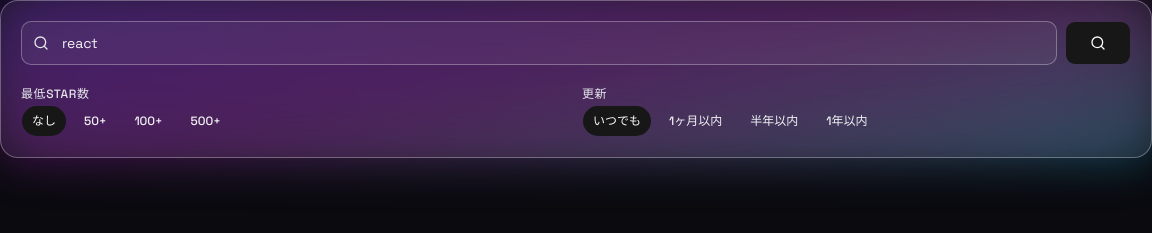
Test: SearchCard › 同一条件エラー後に空検索すると、同一条件メッセージが消えて空入力メッセージのみ表示される
The image size is (1152, 233).
Note: 同一条件で検索 → 同一条件メッセージ
Step 1. Click the button named "検索" → (1098, 43), box x1=1065 y1=21 x2=1131 y2=65
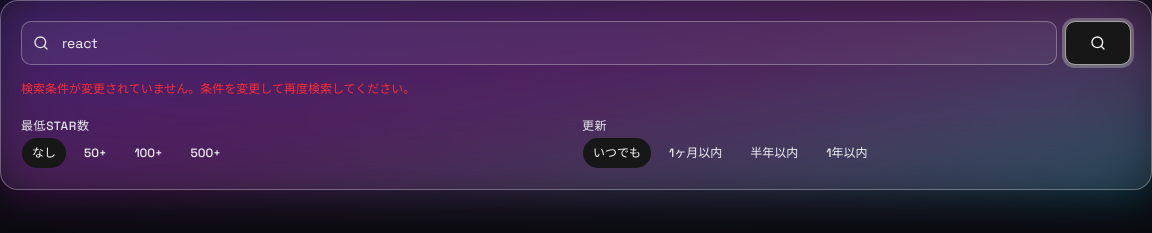
expect the text "検索条件が変更されていません。条件を変更して再度検索してください。" is shown: met, box x1=21 y1=81 x2=415 y2=97
Note: 入力をクリアして空で検索
Step 2. Clear the field with placeholder "React フォーム" → (539, 43), box x1=21 y1=21 x2=1057 y2=65
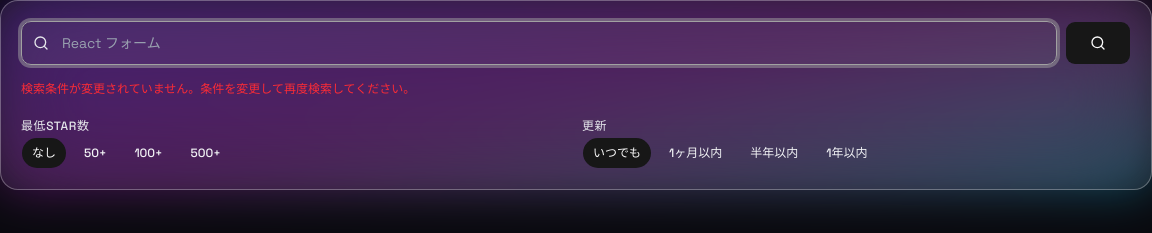
Step 3. Click the button named "検索" → (1098, 43), box x1=1065 y1=21 x2=1131 y2=65
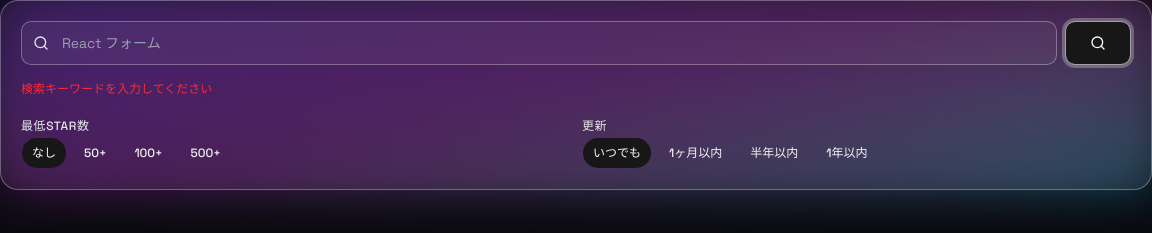
expect the text "検索キーワードを入力してください" is shown: met, box x1=21 y1=81 x2=212 y2=97
expect the text "検索条件が変更されていません。条件を変更して再度検索してください。" is gone: met
